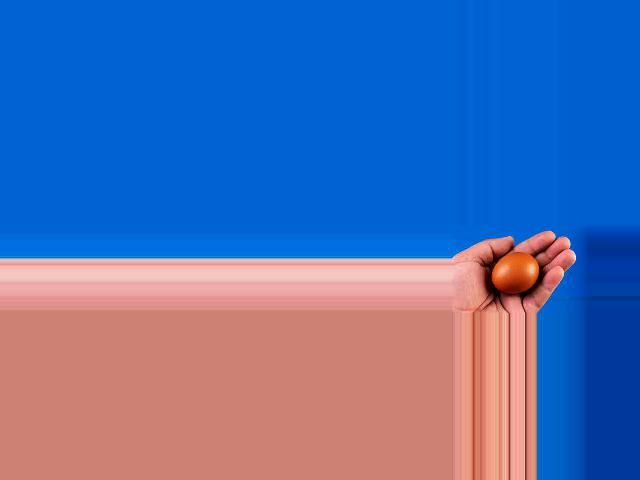egg: (492, 252, 540, 293)
